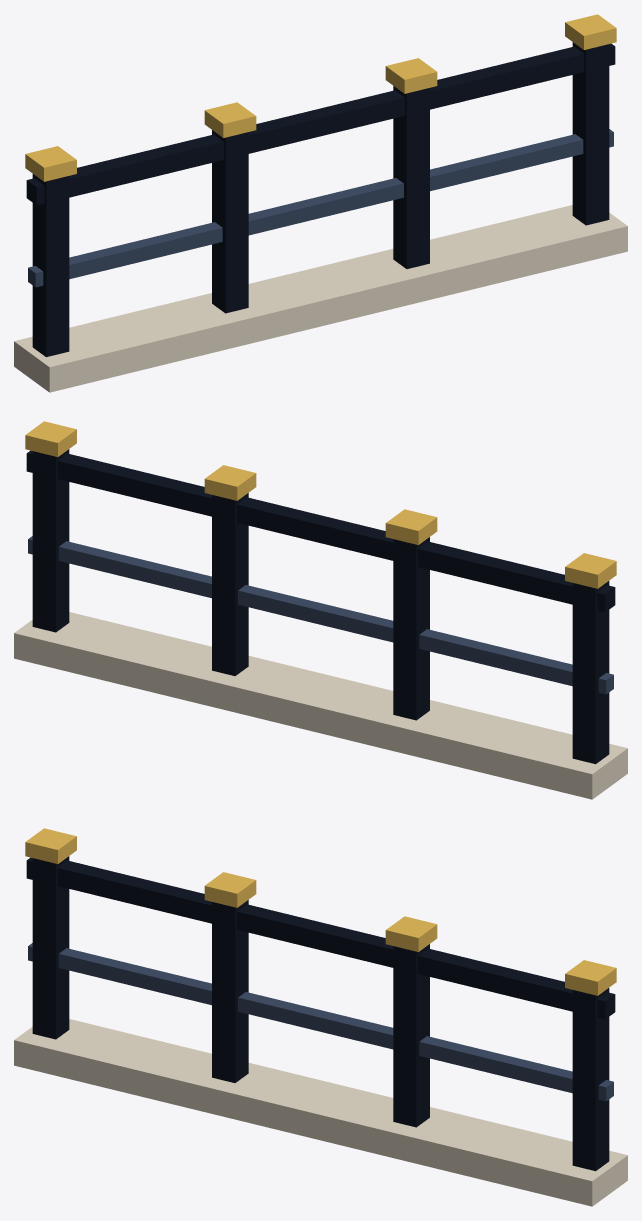
File: prop_rail.glb
3 renders of one model, top to bottom at view 1: azimuth 30°, elevation 25°; view 2: azimuth 150°, elevation 25°; view 3: azimuth 330°, elevation 25°, orthographic.
Visible parts, largest first — view 1: prop_rail; view 2: prop_rail; view 3: prop_rail.
Part boxes in pixels (box(x1,y1,x2,y2)): prop_rail: box(14, 14, 627, 392); prop_rail: box(14, 421, 627, 799); prop_rail: box(14, 828, 627, 1206).
Size of the model in its own units: 3 by 1.08 by 0.3201.
1 material, 1 textured.
